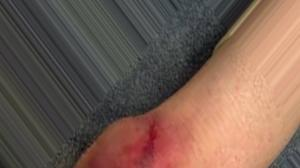Spider: (96, 122, 176, 167)
